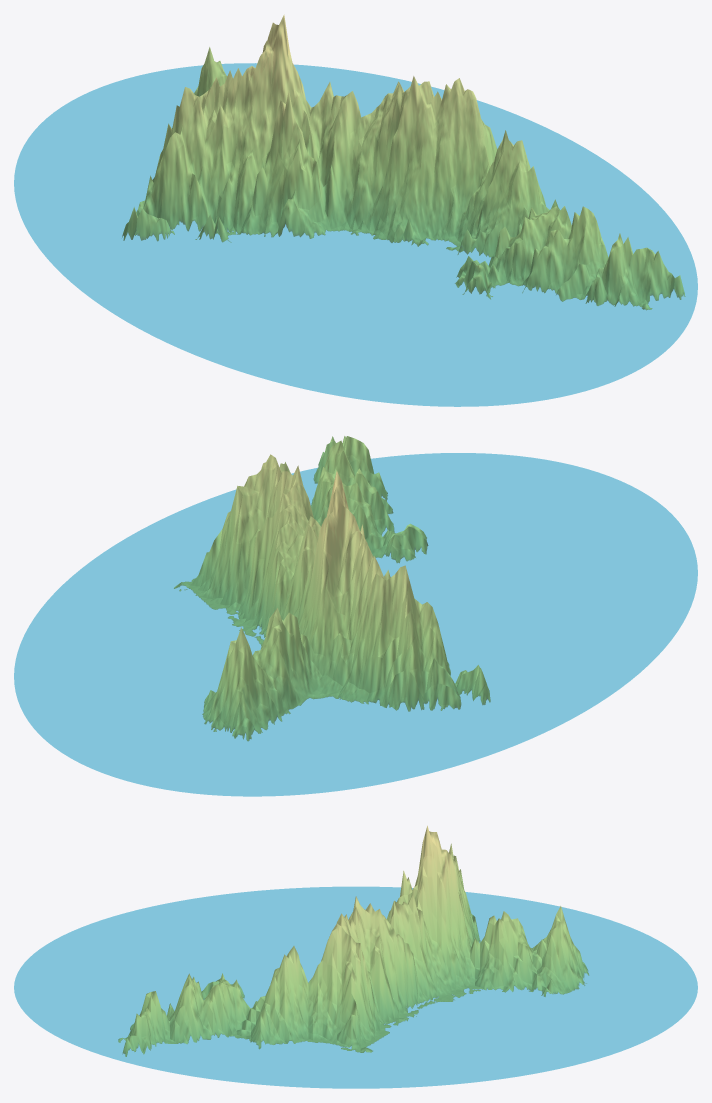
File: SYC-terrain.glb
3 renders of one model, top to bottom at view 1: azimuth 30°, elevation 25°; view 2: azimuth 150°, elevation 25°; view 3: azimuth 270°, elevation 25°, orthographic. The views are drawn at different scales.
Visible parts, largest first — view 1: Relevo com hidrografia; view 2: Relevo com hidrografia; view 3: Relevo com hidrografia.
Boxes of the visible parts, box(x1,y1,x2,y2) form: Relevo com hidrografia: box(14, 14, 697, 406); Relevo com hidrografia: box(14, 436, 697, 796); Relevo com hidrografia: box(14, 825, 697, 1088).
Size of the model in its own units: 1.63 by 0.5725 by 2.33.
Materials: 2 (1 with a texture image).
